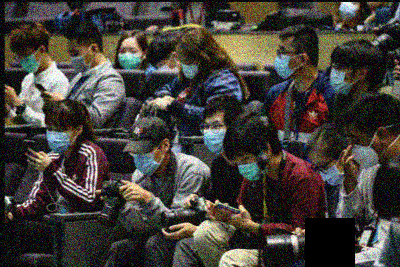with_mask: (347, 129, 378, 168), (126, 145, 162, 175), (200, 117, 227, 155), (328, 60, 357, 95), (311, 156, 344, 186), (46, 119, 75, 153), (274, 41, 299, 79), (234, 149, 263, 181), (116, 42, 144, 69), (67, 44, 93, 70), (175, 53, 200, 80), (13, 50, 41, 73), (154, 56, 179, 74)
